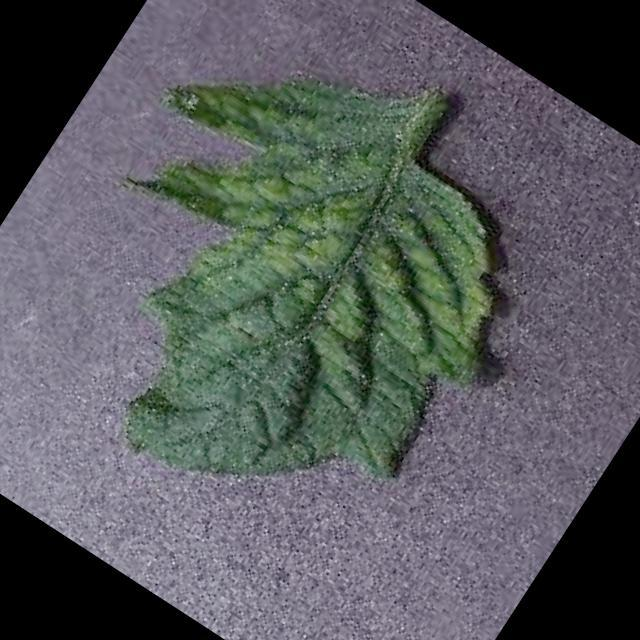Tomato mosaic virus leaf: (0, 0, 576, 582)
